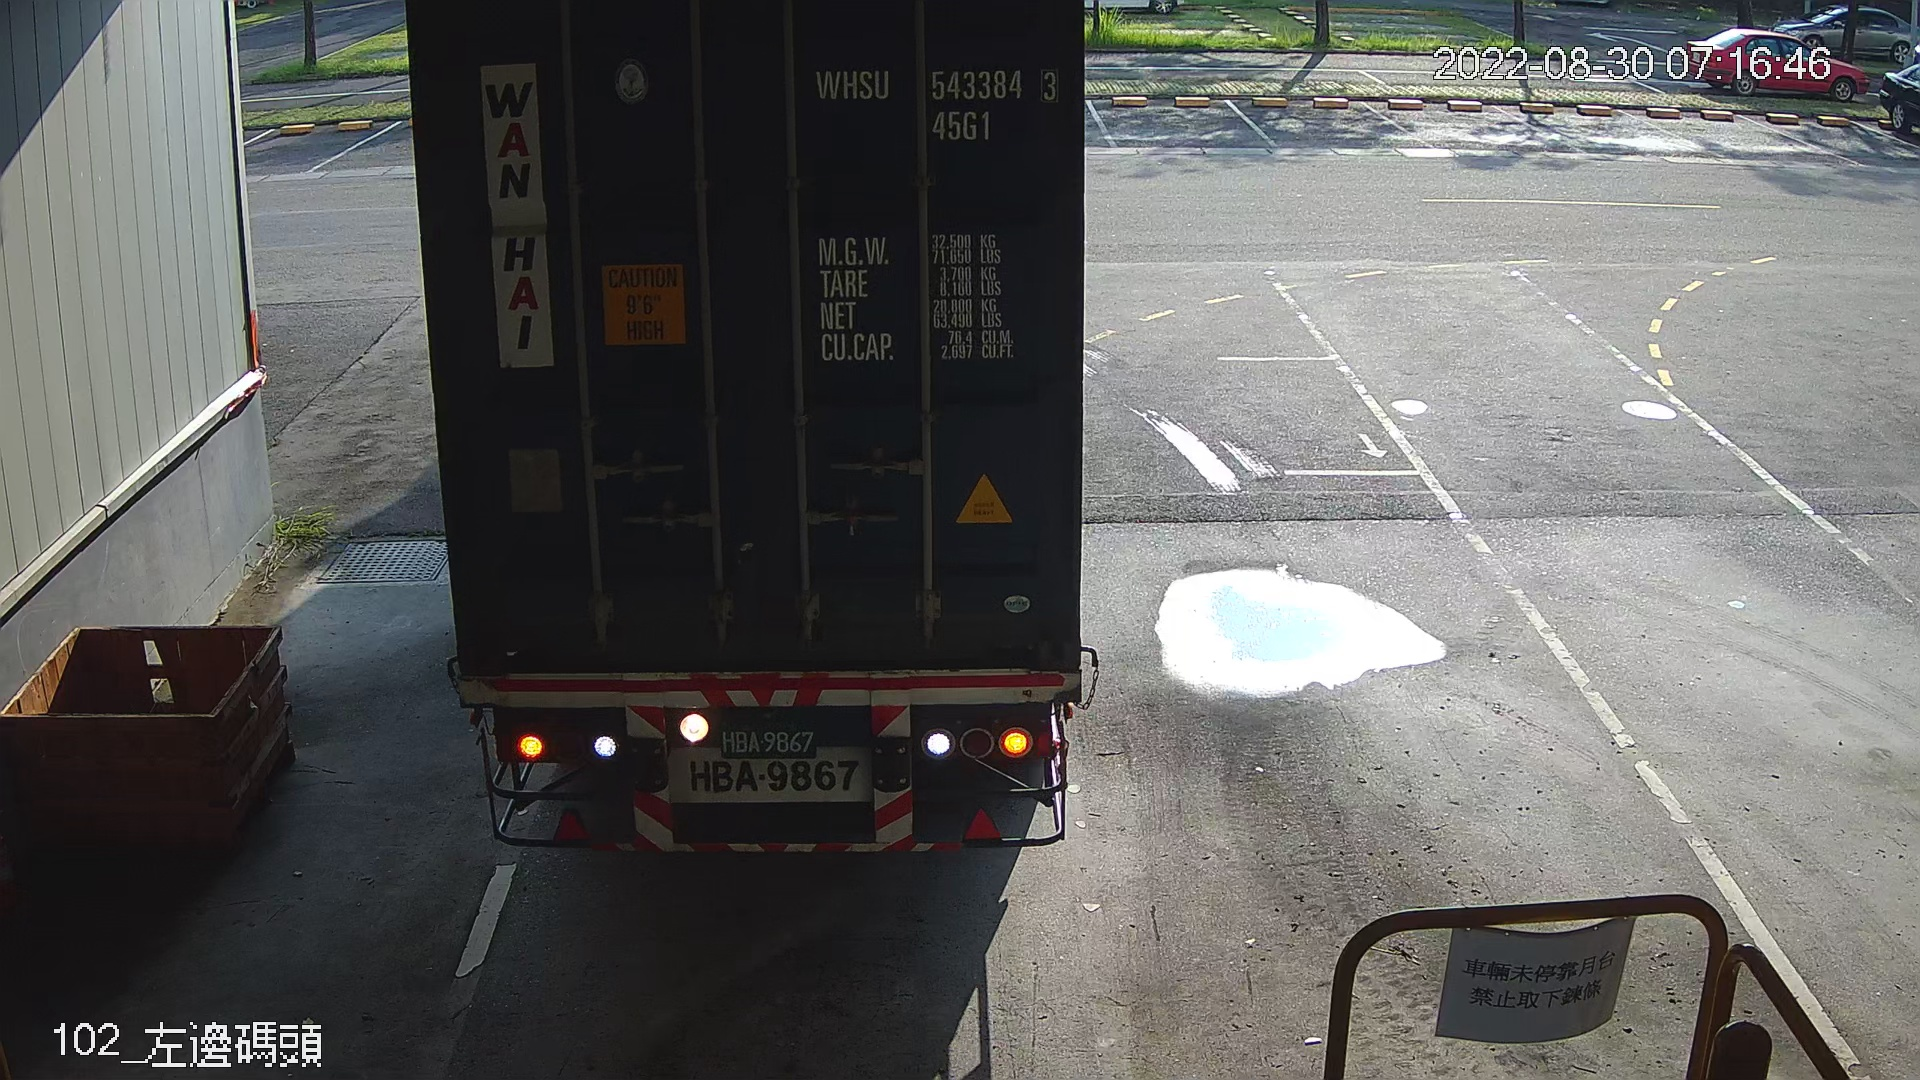container: (800, 51, 1069, 152)
